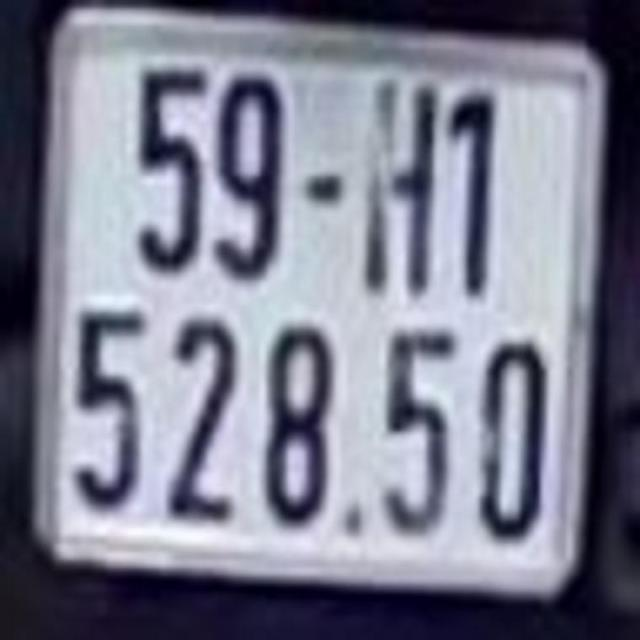0: (472, 330, 548, 541)
1: (444, 71, 502, 300)
2: (160, 303, 238, 530)
5: (72, 283, 146, 512), (382, 320, 457, 541), (134, 56, 205, 270)
8: (260, 306, 331, 522)
9: (210, 56, 281, 282)
H: (361, 69, 442, 296)
